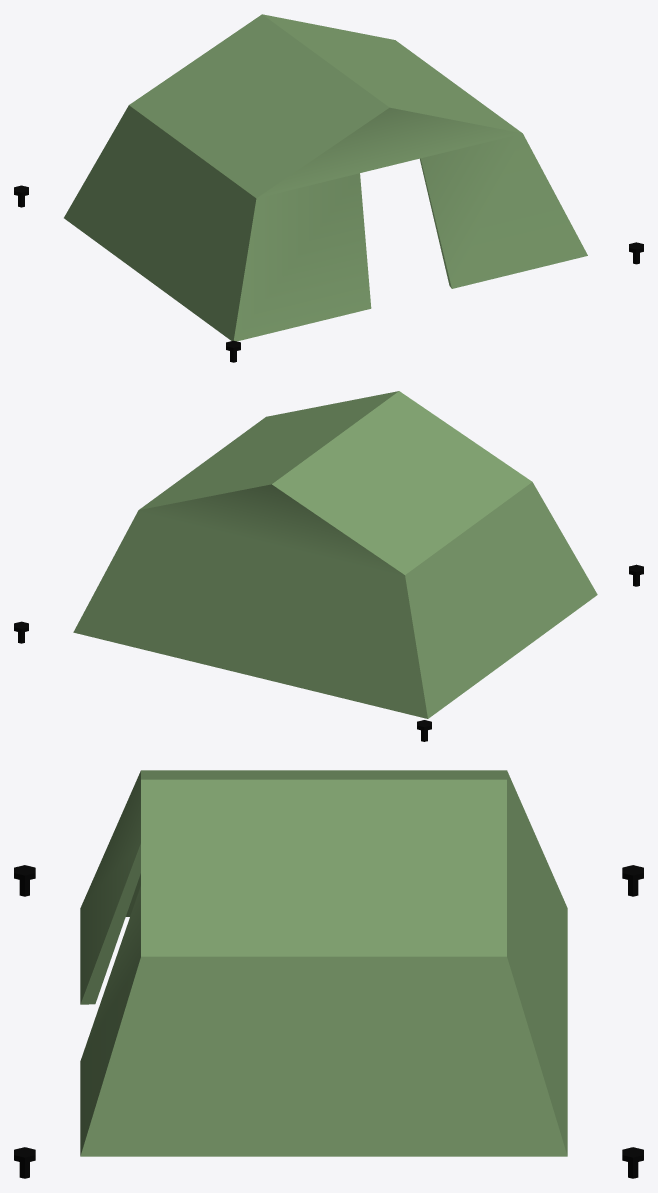
File: Tent.fbx
The picture shows the model from 3 angles, top to bottom: view 1: azimuth 30°, elevation 25°; view 2: azimuth 150°, elevation 25°; view 3: azimuth 270°, elevation 25°; orthographic projection. The views are drawn at different scales.
Visible parts, largest first — view 1: Tent; view 2: Tent; view 3: Tent.
Part boxes in pixels (bbox=[...]): Tent: bbox=[64, 14, 587, 341]; Tent: bbox=[73, 391, 597, 718]; Tent: bbox=[80, 770, 567, 1156].
Bounding box in the file's own units: 6.24 × 2.53 × 5.68.
